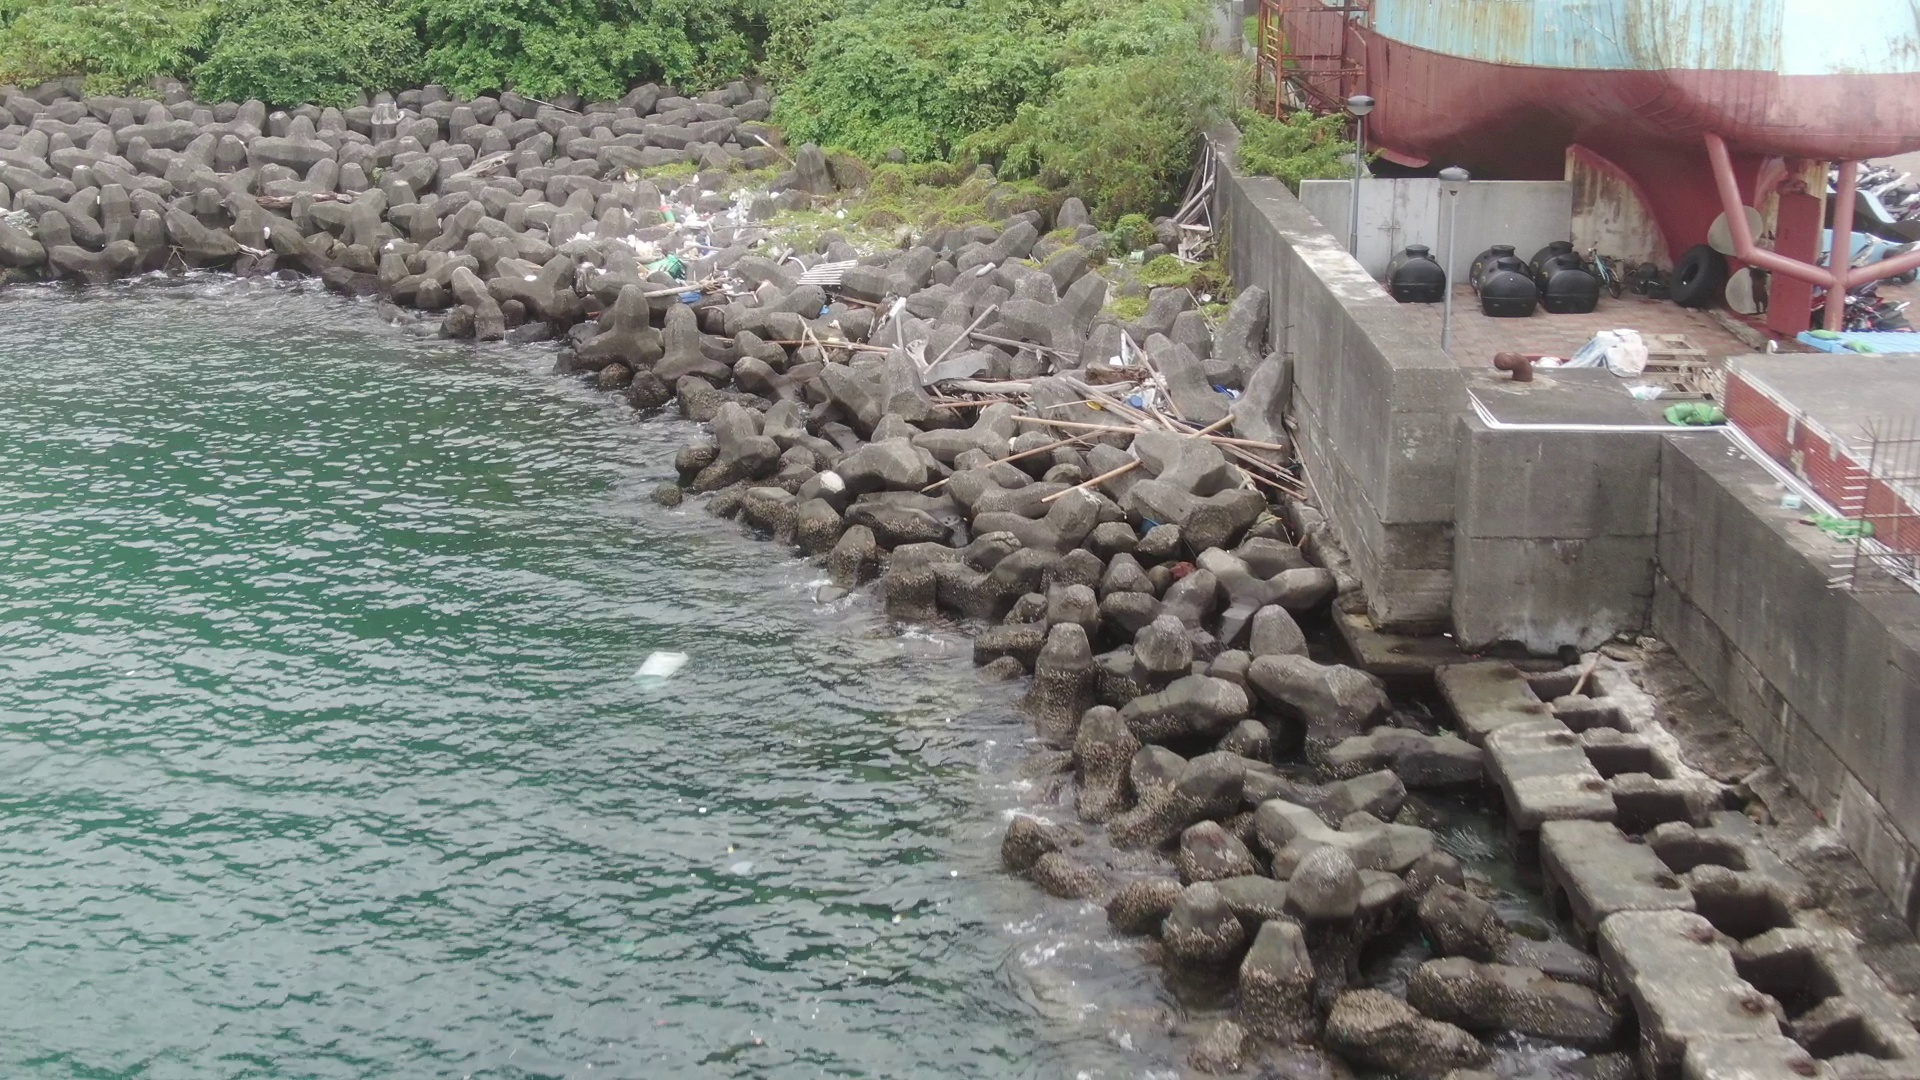garbage: (986, 334, 1309, 501), (570, 167, 873, 313), (778, 293, 1077, 413), (1524, 328, 1664, 378), (1782, 483, 1882, 545), (1640, 382, 1730, 431), (636, 644, 687, 686)
